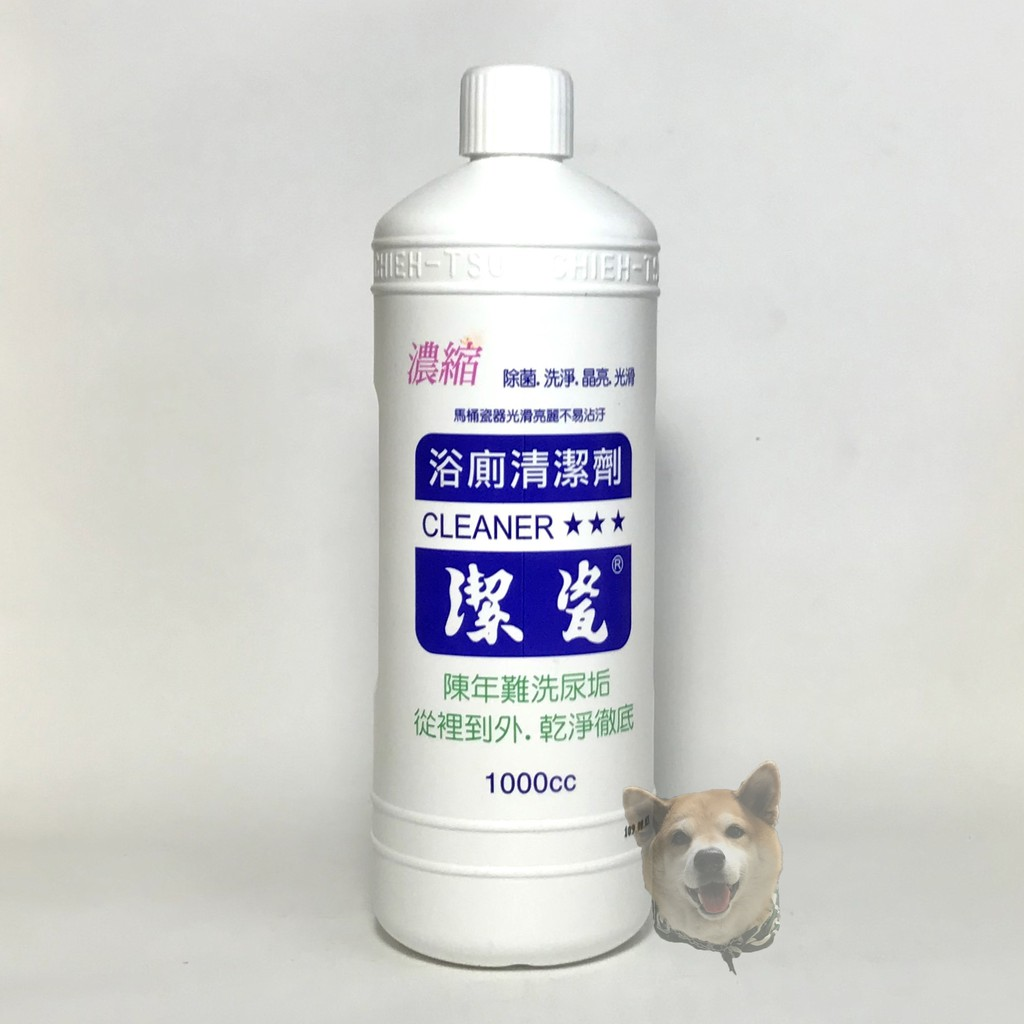cleaner: (361, 54, 700, 978)
